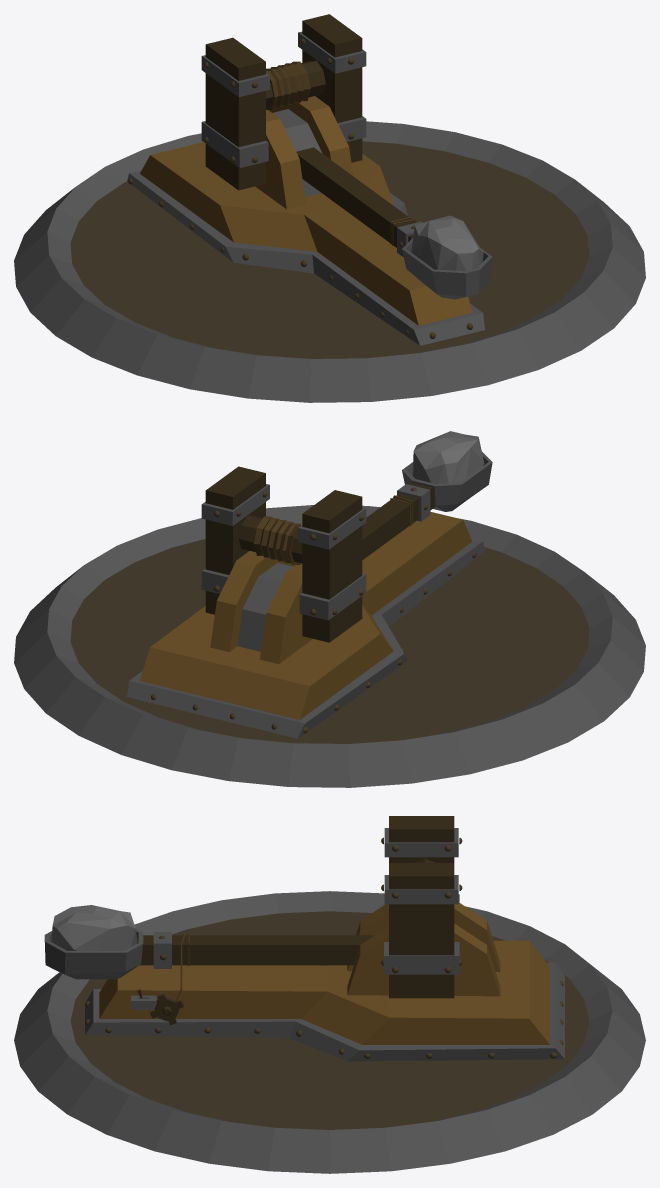
The model's file is CATAPULTA.fbx.
3 views of the same model, one above another, from view 1: azimuth 30°, elevation 25°; view 2: azimuth 150°, elevation 25°; view 3: azimuth 270°, elevation 25° (orthographic).
Parts seen in each view (by area): view 1: Circle, Cube.010, Cube.008; view 2: Circle, Cube.010, Cube.008; view 3: Circle, Cube.010, Cube.008, Cylinder.002.
Boxes of the visible parts, bbox=[...] form: Circle: bbox=[14, 121, 645, 402]; Cube.010: bbox=[201, 14, 492, 299]; Cube.008: bbox=[411, 215, 483, 271]; Circle: bbox=[14, 505, 645, 787]; Cube.010: bbox=[201, 452, 492, 664]; Cube.008: bbox=[413, 431, 484, 483]; Circle: bbox=[14, 891, 645, 1173]; Cube.010: bbox=[44, 816, 500, 998]; Cube.008: bbox=[51, 905, 137, 950]; Cylinder.002: bbox=[150, 994, 183, 1024].
Bounding box in the file's own units: 2.84 × 2.84 × 0.9638.
